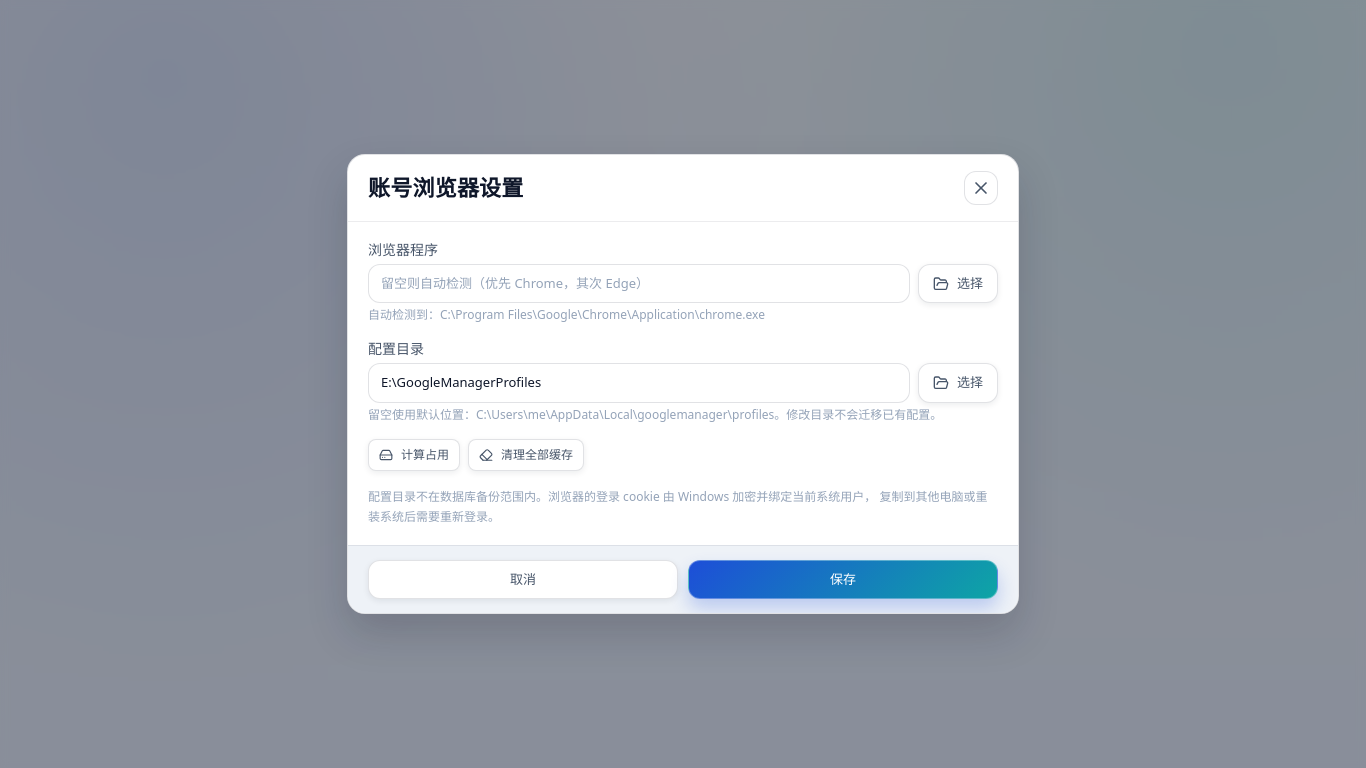
it: BrowserSettingsDialog › 保存失败时显示原因且不关闭
Expected: the field labelled "配置目录" holds "E:\\GoogleManagerProfiles", 368,363 -> 910,403
Type "x" into the field labelled "浏览器程序" at (639, 284), box 368,264 -> 910,303
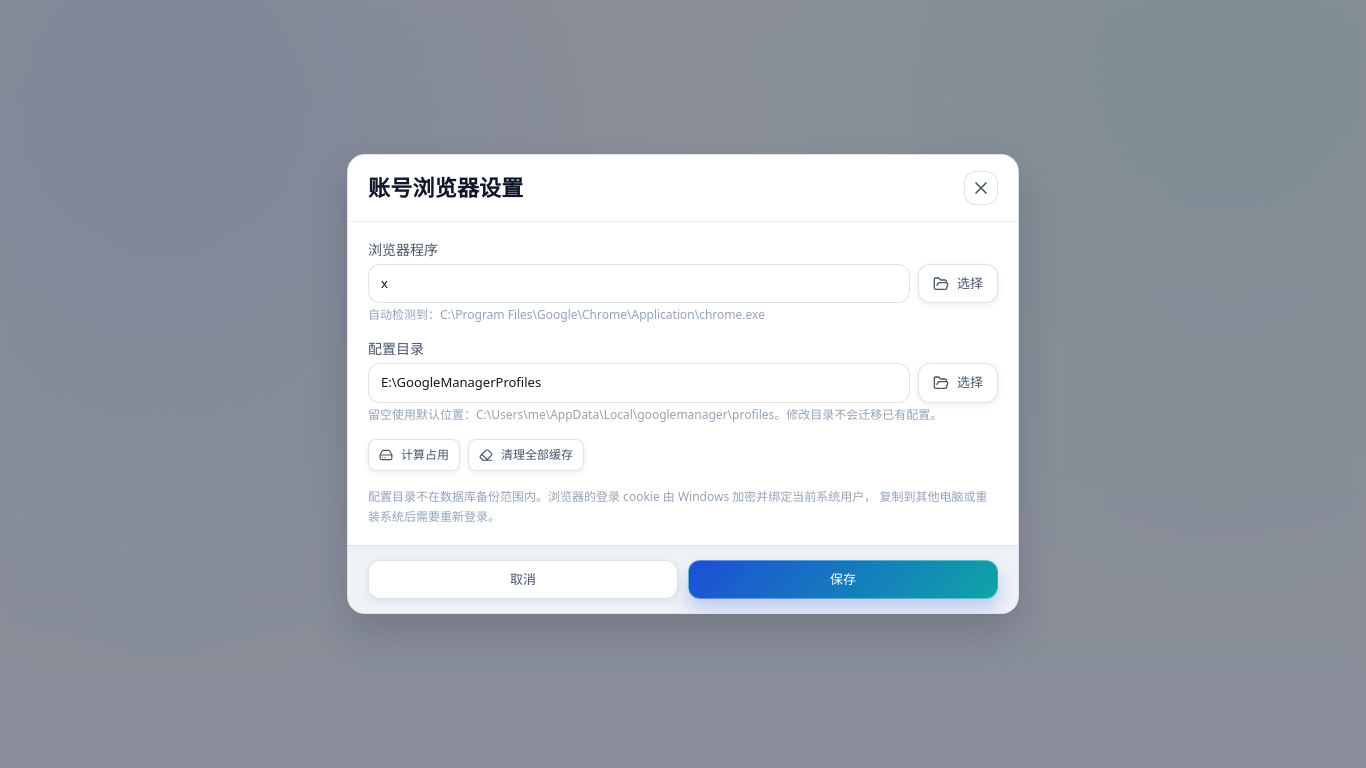
Click the button "保存" at (843, 580), box 688,560 -> 998,599
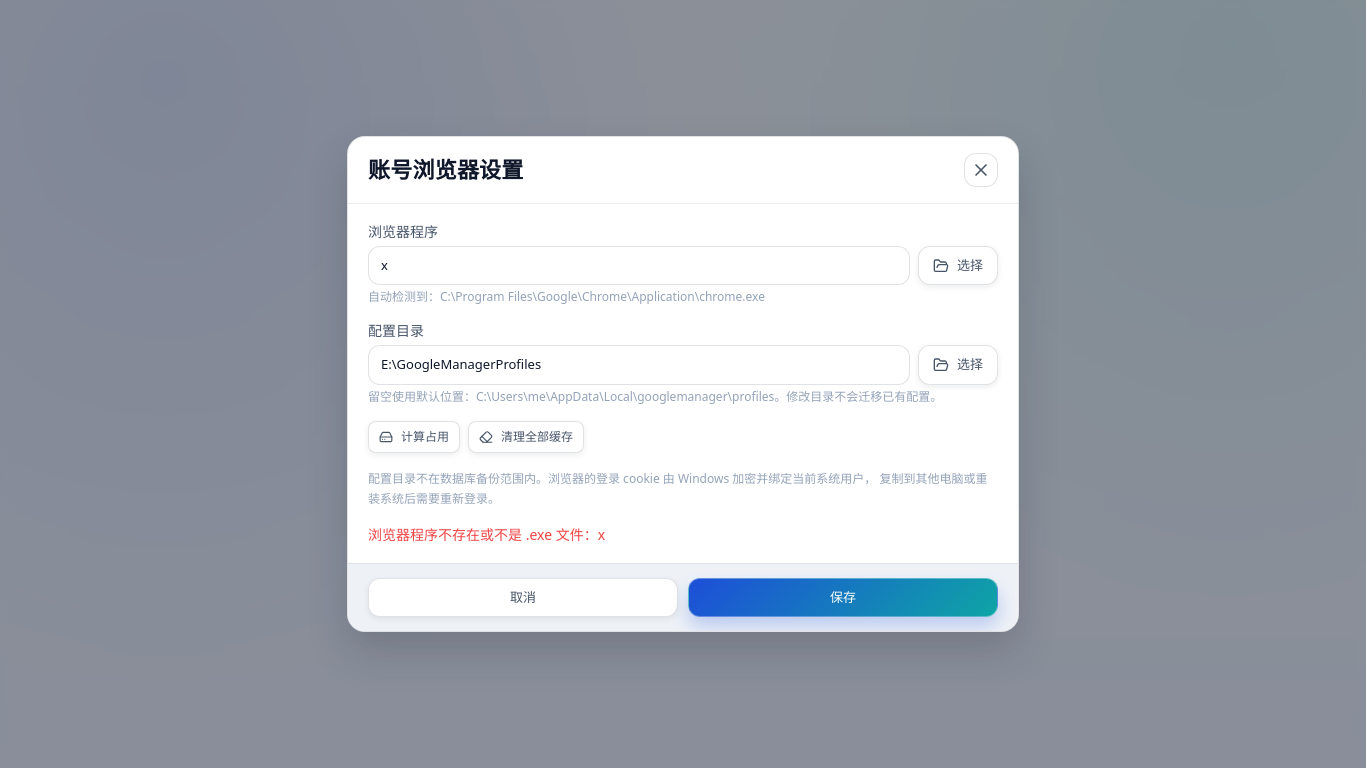
Now the text "浏览器程序不存在或不是 .exe 文件：x" is shown, box 368,525 -> 605,544
